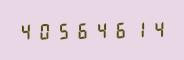five: (55, 20, 73, 40)
four: (93, 19, 111, 39), (150, 18, 168, 38), (17, 21, 35, 40)
one: (131, 19, 149, 38)
six: (112, 19, 130, 39), (74, 20, 92, 39)
zero: (36, 20, 54, 40)
